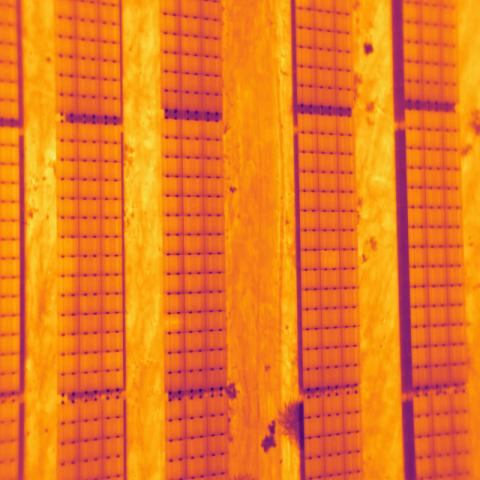fault: (164, 313, 185, 336)
